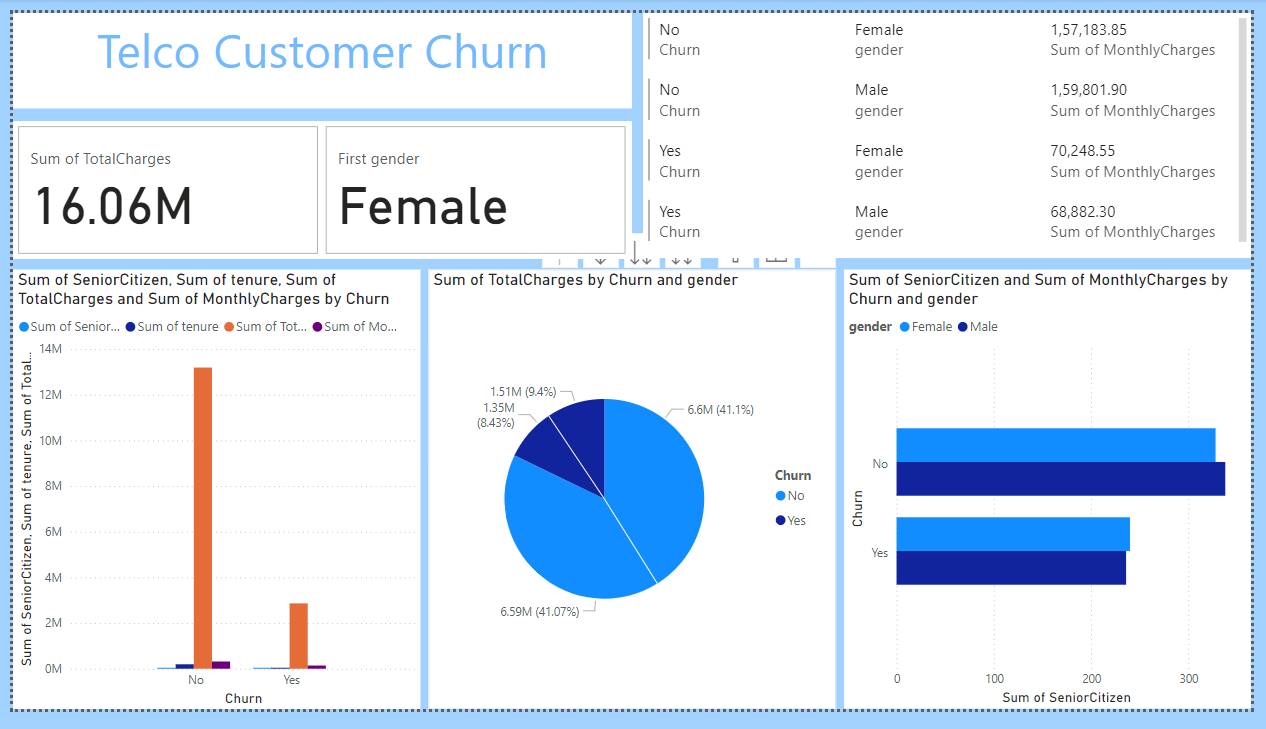

The page's visual inventory and layout, read from the dashboard file:
{"tool":"powerbi","page":{"name":"Page 1","canvas":[1280,720],"ordinal":0},"visuals":[{"type":"clusteredColumnChart","fields":{"Category":["Telco-Customer-Churn.Churn"],"Y":["Sum(Telco-Customer-Churn.SeniorCitizen)","Sum(Telco-Customer-Churn.tenure)","Sum(Telco-Customer-Churn.TotalCharges)","Sum(Telco-Customer-Churn.MonthlyCharges)"]},"box":[0,264.6,421.4,455.4],"z":0},{"type":"pieChart","fields":{"Category":["Telco-Customer-Churn.Churn","Telco-Customer-Churn.customerID","Telco-Customer-Churn.Dependents","Telco-Customer-Churn.DeviceProtection"],"Series":["Telco-Customer-Churn.gender"],"Y":["Sum(Telco-Customer-Churn.TotalCharges)"]},"box":[430,265,420.9,454.3],"z":1000},{"type":"clusteredBarChart","fields":{"Category":["Telco-Customer-Churn.Churn"],"Series":["Telco-Customer-Churn.gender"],"Y":["Sum(Telco-Customer-Churn.SeniorCitizen)"]},"box":[858.6,265,420.9,454.3],"z":2000},{"type":"multiRowCard","fields":{"Values":["Telco-Customer-Churn.Churn","Telco-Customer-Churn.gender","Sum(Telco-Customer-Churn.MonthlyCharges)"]},"box":[650.7,0,628.8,253.4],"z":2001},{"type":"cardVisual","fields":{"Data":["Sum(Telco-Customer-Churn.TotalCharges)","Min(Telco-Customer-Churn.gender)"]},"box":[0,111.1,639.7,142.3],"z":2002},{"type":"textbox","box":[0,0,639.7,98.5],"z":2003}]}

Visuals, with their boxes in screenshot pixels (x1, y1, x2, y2), scaled from the page's 1280x720 canvas onto the 1266x729 screenshot:
clusteredColumnChart - Telco-Customer-Churn.Churn x Sum(Telco-Customer-Churn.SeniorCitizen): bbox=[0, 268, 417, 728]
pieChart - Telco-Customer-Churn.Churn x Telco-Customer-Churn.customerID: bbox=[425, 268, 842, 728]
clusteredBarChart - Telco-Customer-Churn.Churn x Telco-Customer-Churn.gender: bbox=[849, 268, 1265, 728]
multiRowCard - Telco-Customer-Churn.Churn x Telco-Customer-Churn.gender: bbox=[644, 0, 1265, 257]
cardVisual - Sum(Telco-Customer-Churn.TotalCharges) x Min(Telco-Customer-Churn.gender): bbox=[0, 112, 633, 257]
textbox: bbox=[0, 0, 633, 100]
